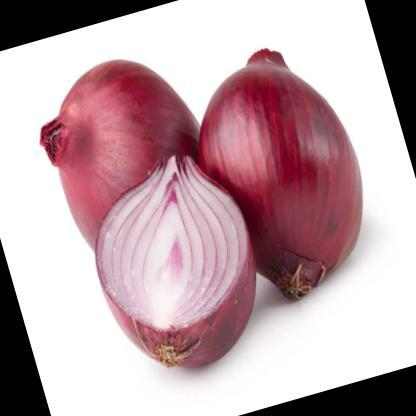onion: (180, 19, 400, 318)
